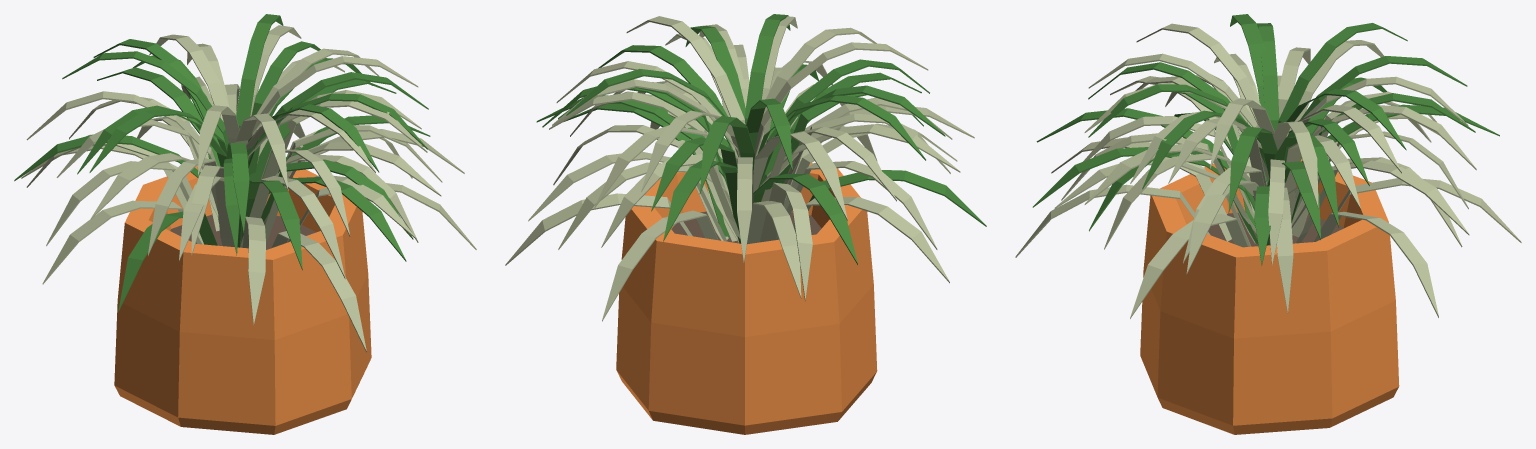
File: Flower_12.fbx
3 views of the same model, side by side, from view 1: azimuth 30°, elevation 25°; view 2: azimuth 150°, elevation 25°; view 3: azimuth 270°, elevation 25° (orthographic). The views are drawn at different scales.
Parts seen in each view (by area): view 1: Flower_12; view 2: Flower_12; view 3: Flower_12.
Part boxes in pixels (bbox=[...]): Flower_12: bbox=[14, 14, 476, 434]; Flower_12: bbox=[505, 14, 986, 434]; Flower_12: bbox=[1015, 14, 1521, 434].
Bounding box in the file's own units: 24.17 × 27.32 × 19.05.
